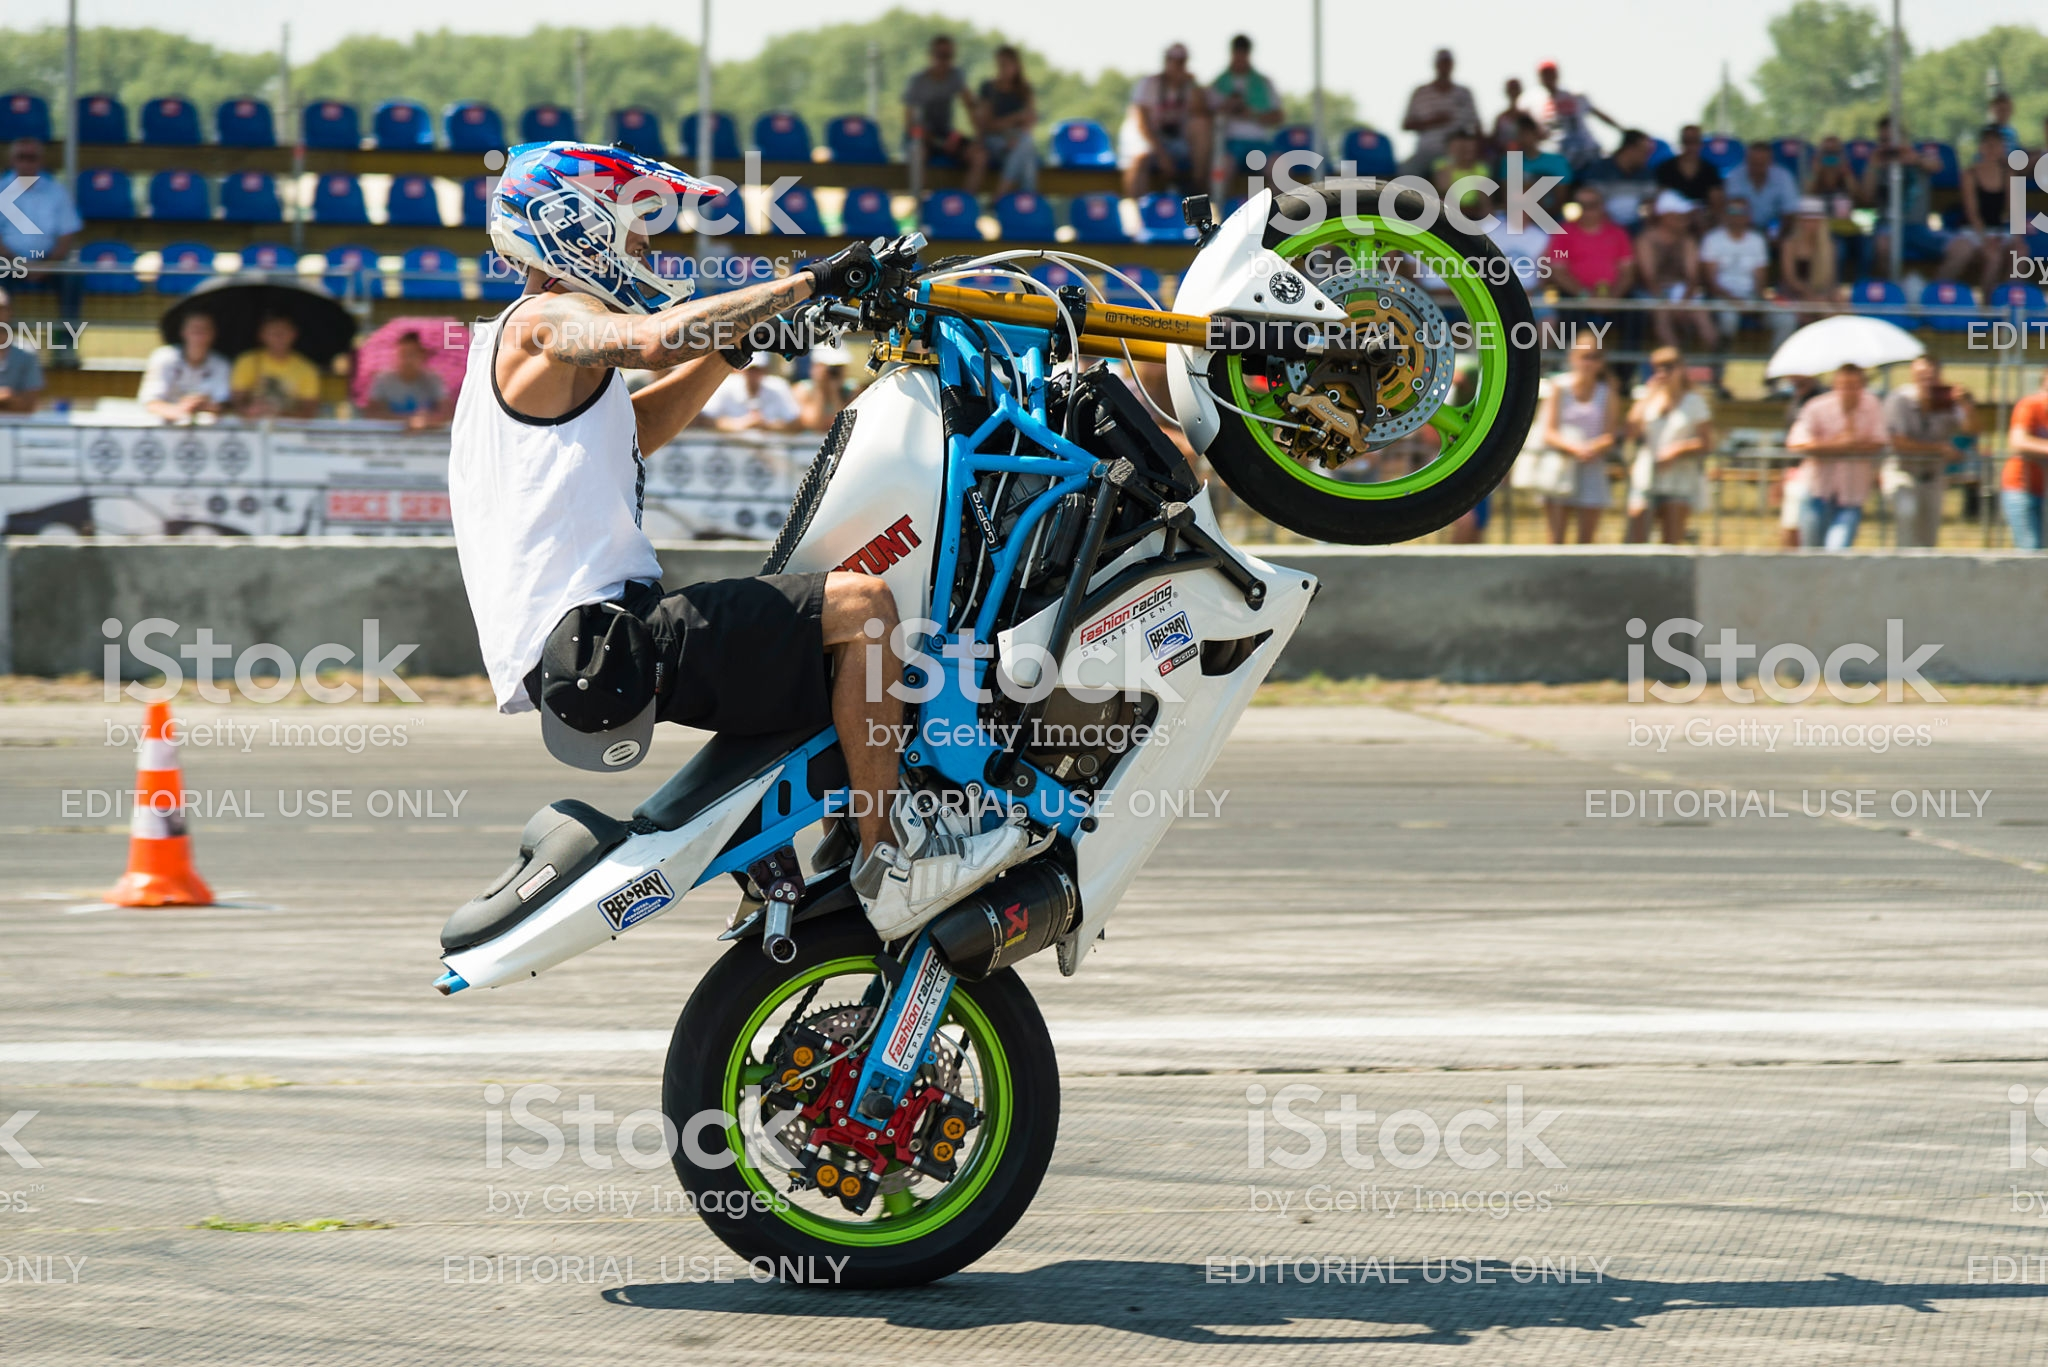helmet: (480, 122, 750, 343)
